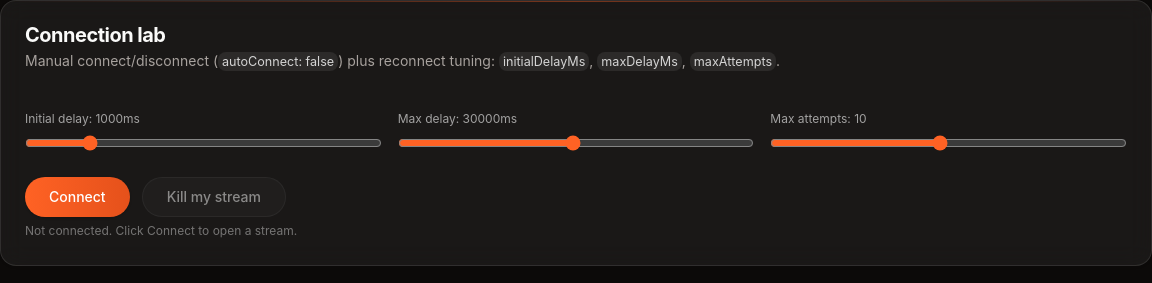
Test: ConnectionLabPage › shows a generic message for a non-api kill-switch failure
Click the button "Connect": (77, 197) [25, 177, 130, 217]
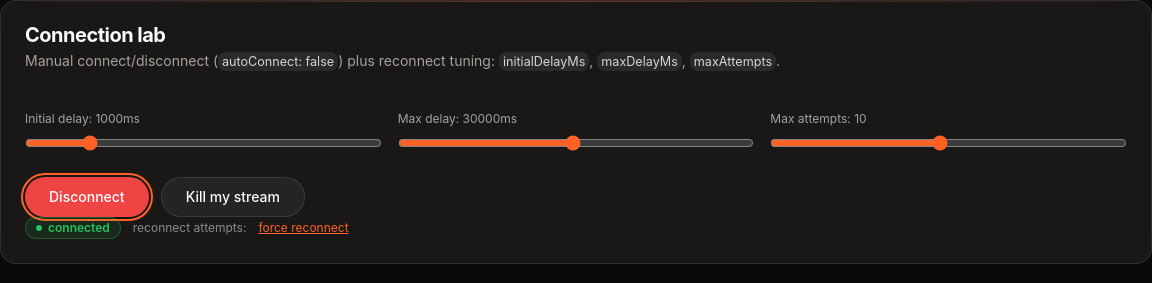
Click the button "Kill my stream": (233, 197) [161, 177, 305, 217]
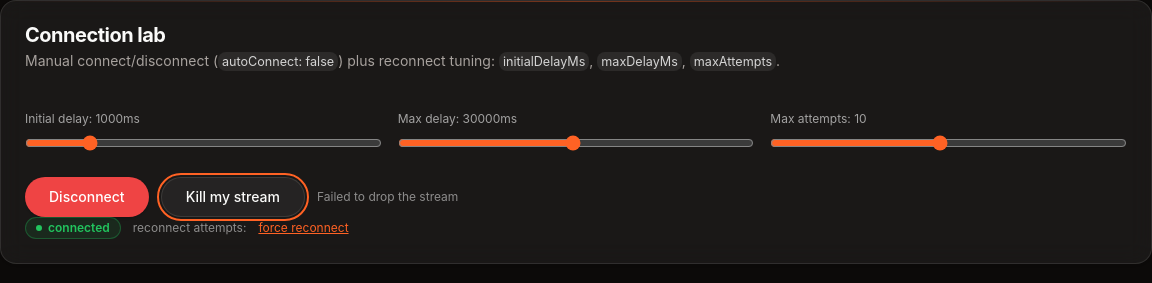
Now the text "Failed to drop the stream" is shown, box [317, 189, 458, 205]
